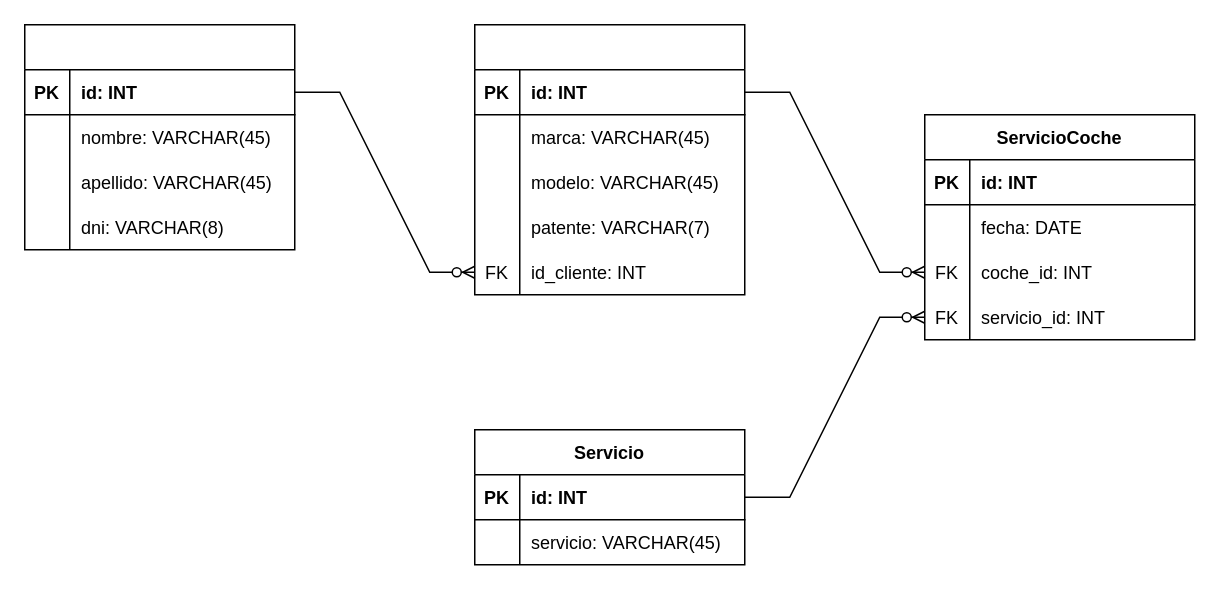
Some shapes in this 1220 by 590 pixel diagram are drawn without their labels. The shapes that lost their labels are listed below. From the top down, each one's box as (x1, y1, x2, y2) in pixels, then its label:
(23, 23, 295, 250): Cliente
(473, 23, 745, 295): Coche
